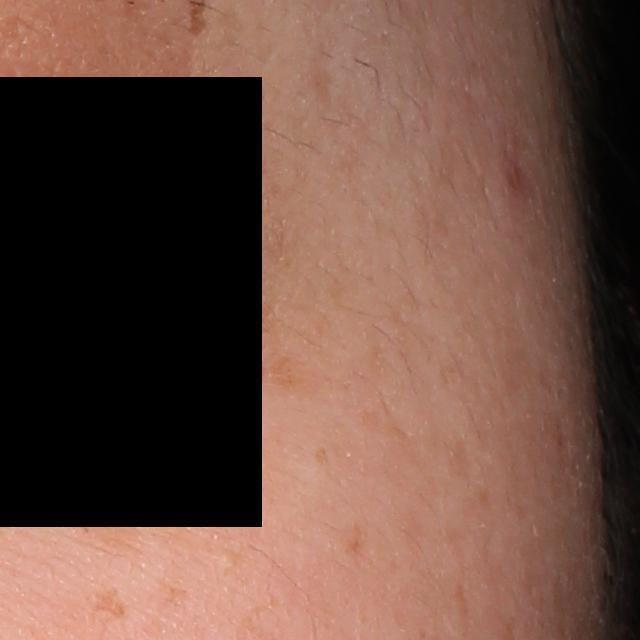comedo: (210, 544, 243, 571)
melasma: (71, 500, 146, 569), (262, 352, 305, 394), (86, 583, 127, 617), (156, 575, 188, 613), (342, 516, 368, 558), (308, 443, 331, 472)
